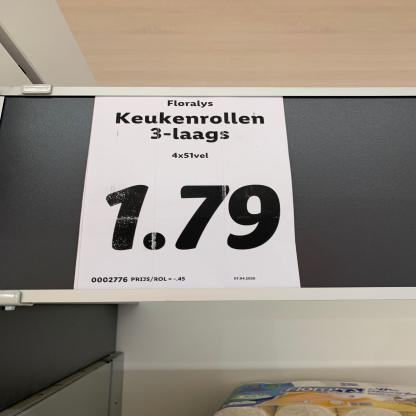prtg: (78, 97, 303, 290)
